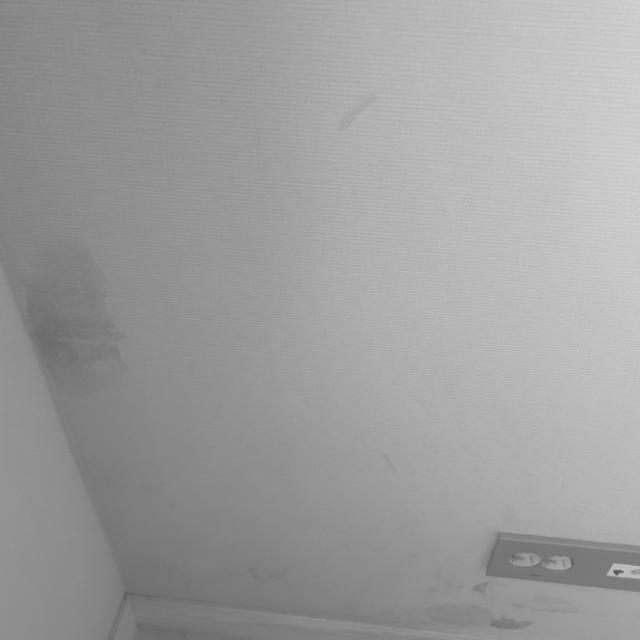stain marks: (93, 500, 424, 623), (18, 233, 127, 394), (424, 580, 540, 630)
